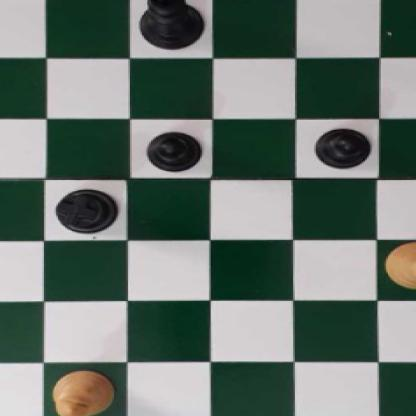black-king: (139, 0, 204, 49)
black-pawn: (142, 130, 204, 172), (312, 126, 372, 169)
black-rook: (54, 187, 119, 232)
white-bishop: (47, 367, 112, 416)
white-king: (384, 240, 416, 291)
